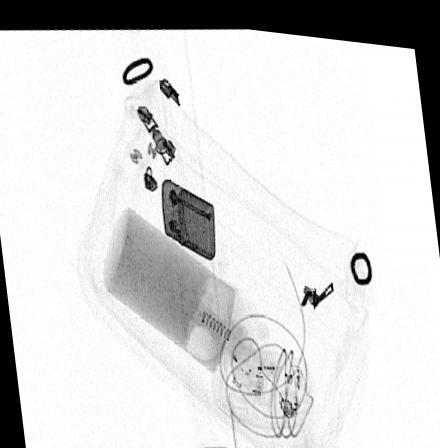Lighter: (161, 173, 217, 255)
